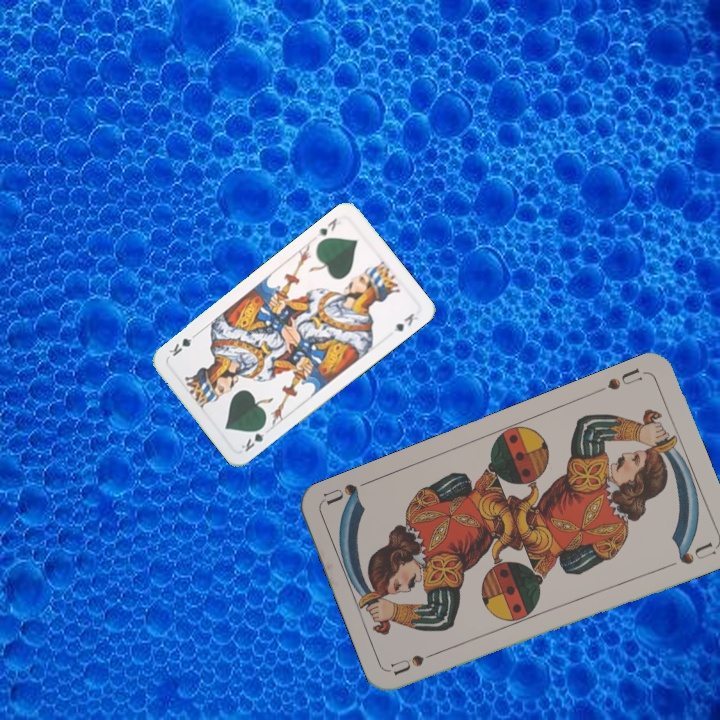GK: (237, 421, 268, 455), (313, 214, 340, 240)
SU: (388, 645, 446, 678), (603, 364, 645, 393)
